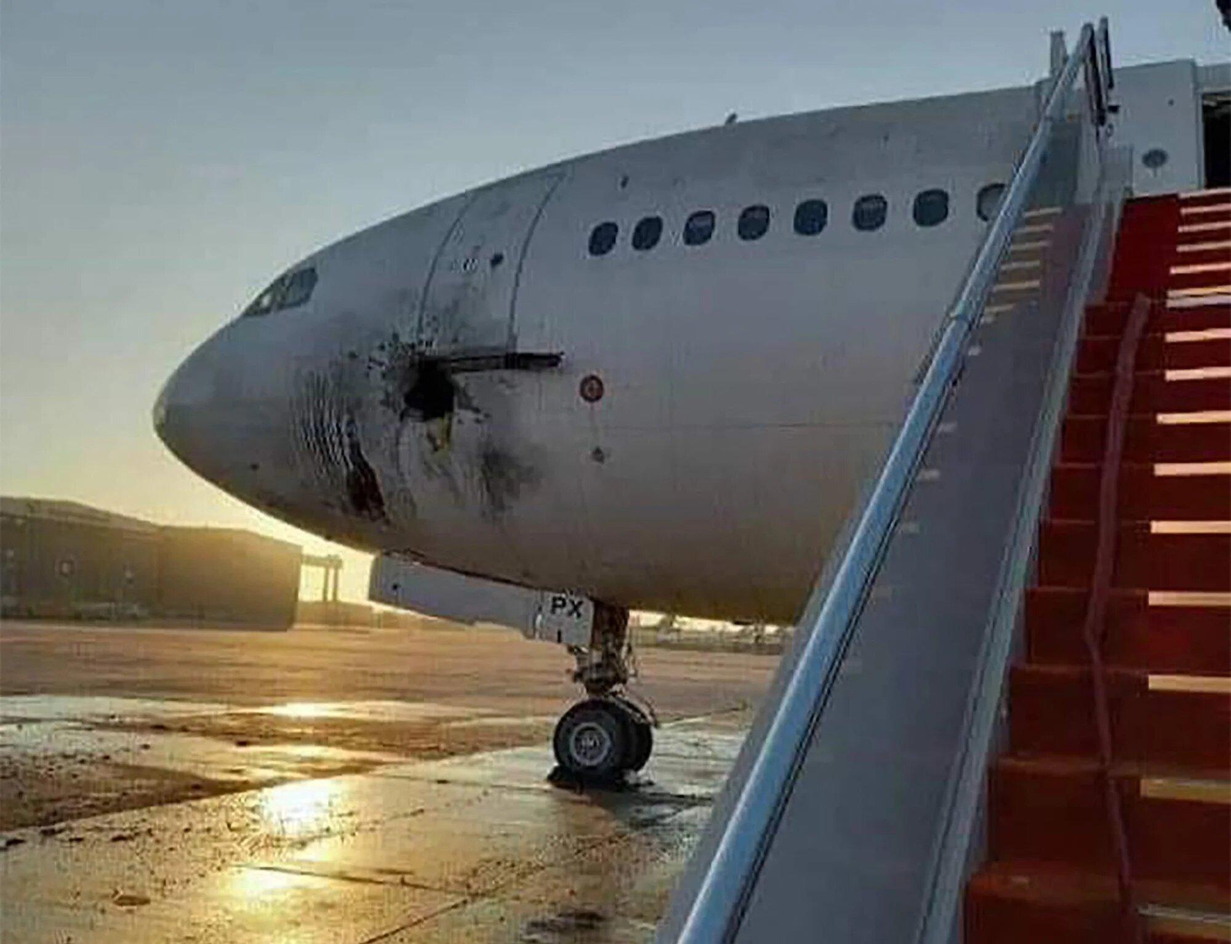Fuselage_damage: (279, 302, 624, 517)
